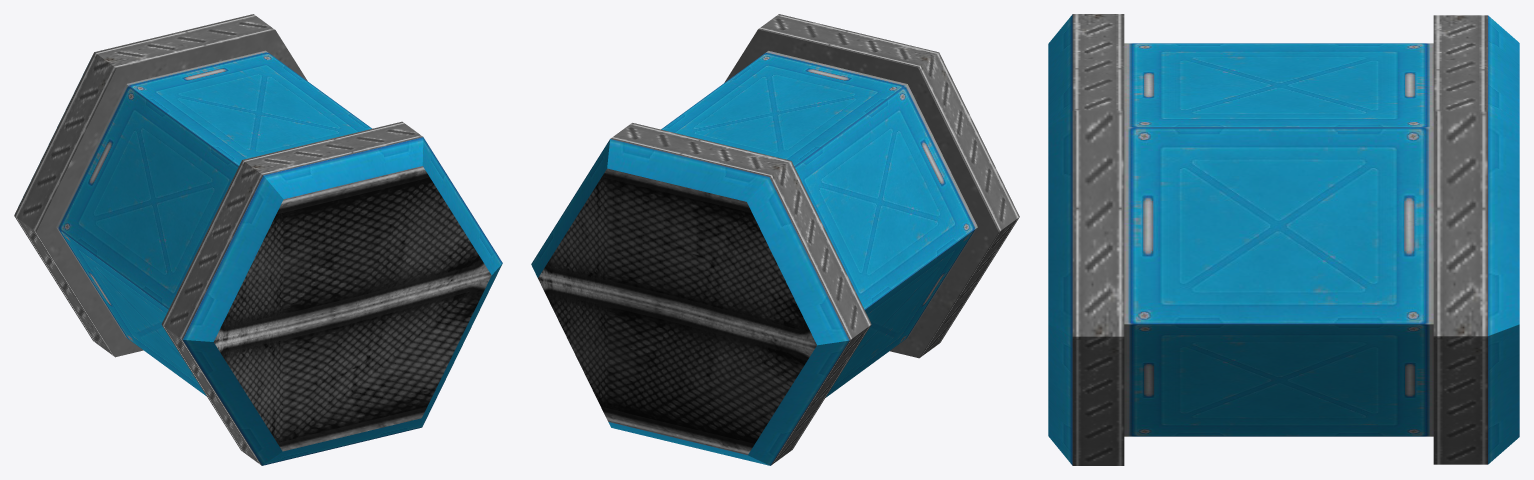
The model's file is CargoBox_02.fbx.
The picture shows the model from 3 angles, left to right: view 1: azimuth 30°, elevation 25°; view 2: azimuth 150°, elevation 25°; view 3: azimuth 270°, elevation 25°; orthographic projection. The views are drawn at different scales.
Visible parts, largest first — view 1: CargoBox_02; view 2: CargoBox_02; view 3: CargoBox_02.
Part boxes in pixels (<box>): CargoBox_02: <box>14,14,502,465</box>; CargoBox_02: <box>531,14,1019,465</box>; CargoBox_02: <box>1048,14,1519,465</box>.
Bounding box in the file's own units: 87.38 × 75.86 × 90.81.
